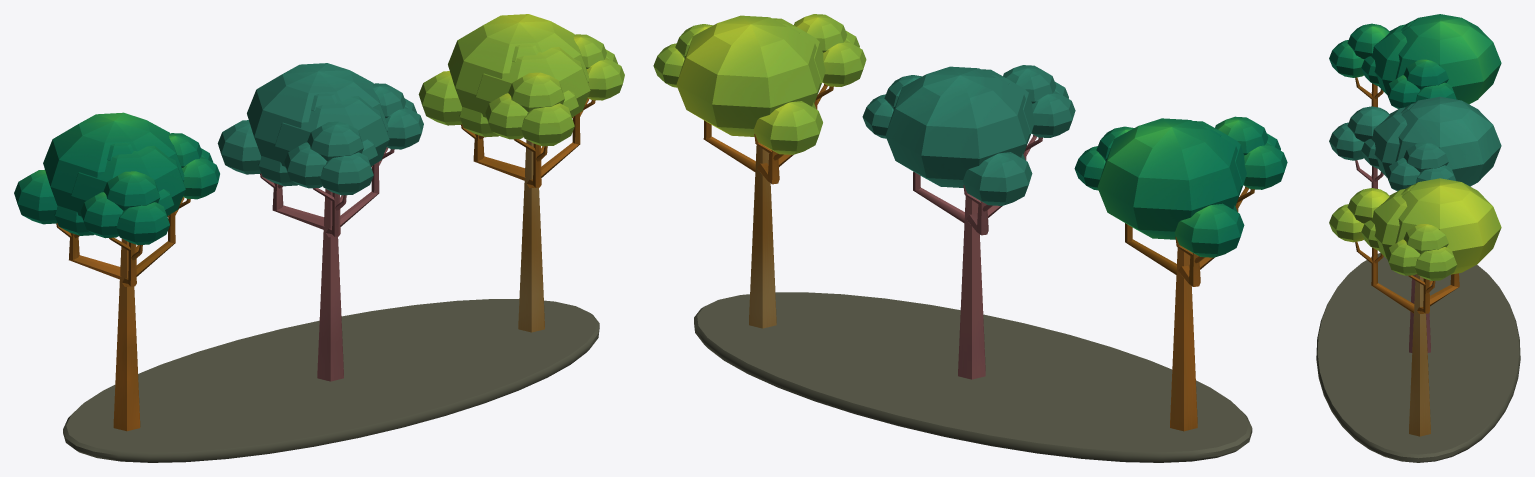
File: Pack.fbx
3 views of the same model, side by side, from view 1: azimuth 30°, elevation 25°; view 2: azimuth 150°, elevation 25°; view 3: azimuth 270°, elevation 25° (orthographic). The views are drawn at different scales.
Visible parts, largest first — view 1: Cylinder, Tree_1, Tree_3, Tree_2; view 2: Cylinder, Tree_2, Tree_3, Tree_1; view 3: Cylinder, Tree_1, Tree_3, Tree_2.
Boxes of the visible parts, x1,y1,x2,y2 form: Cylinder: (63,299,599,462); Tree_1: (418,14,624,332); Tree_3: (217,63,423,381); Tree_2: (14,112,219,431); Cylinder: (694,292,1252,462); Tree_2: (1074,116,1287,431); Tree_3: (862,65,1075,379); Tree_1: (653,14,866,328); Cylinder: (1316,253,1520,462); Tree_1: (1329,178,1501,436); Tree_3: (1329,96,1501,352); Tree_2: (1329,14,1501,108).
Bounding box in the file's own units: 1758 × 886 × 645.
Materials: 4 (3 with a texture image).
